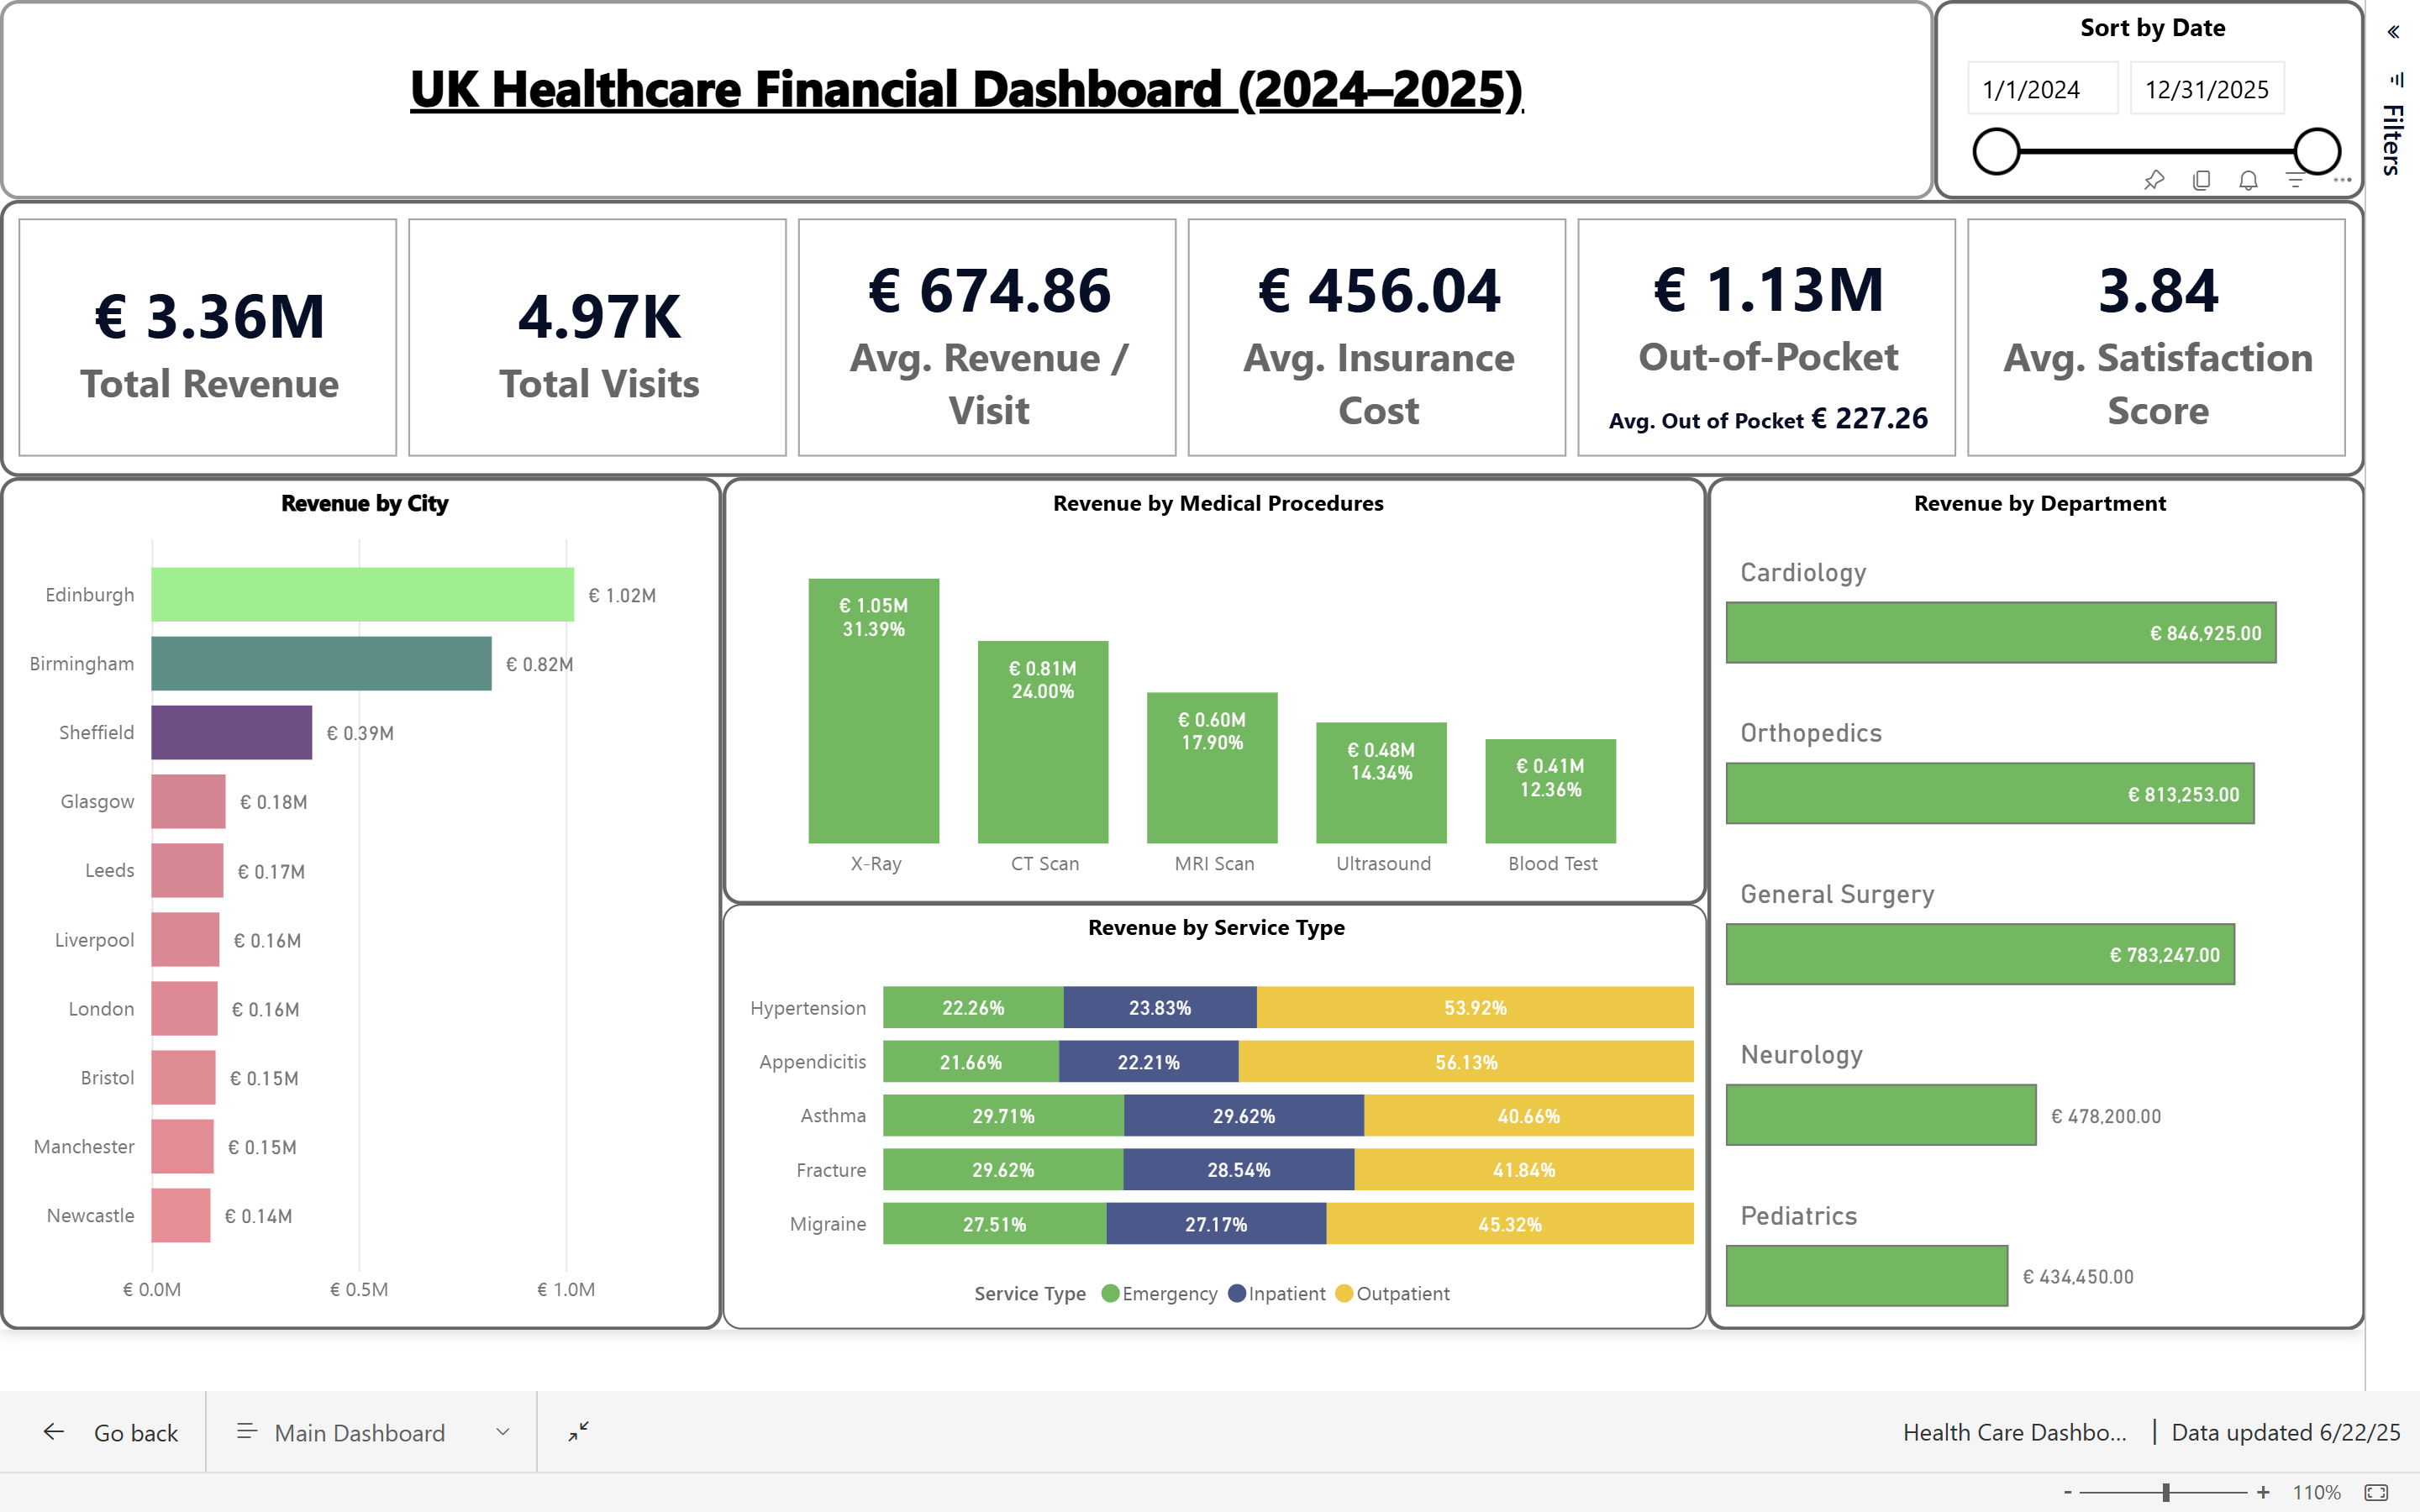

What the dashboard file says about the page in this screenshot:
{"tool":"powerbi","page":{"name":"Main Dashboard","canvas":[1280,720],"ordinal":0},"visuals":[{"type":"cardVisual","fields":{"Data":["DAX Calculations.Total Bill Amount","DAX Calculations.Total Treatment Cost","DAX Calculations.Total Mediacation Cost","DAX Calculations.Total Room Charges","DAX Calculations.Total Patients","DAX Calculations.Avg. Satisfaction Score"]},"box":[0,108.2,1280.4,149.9],"z":0},{"type":"barChart","title":"Revenue by City","fields":{"Category":["Cities.City"],"Y":["DAX Calculations.Total Bill Amount"]},"box":[0,258,391,462],"z":1000},{"type":"columnChart","title":"Revenue by Medical Procedures","fields":{"Category":["Procedure.Procedure"],"Y":["DAX Calculations.Total Bill Amount","DAX Calculations.% Procedure of Bill"]},"box":[391,258,532.9,231.4],"z":2000},{"type":"hundredPercentStackedBarChart","title":"Revenue by Service Type","fields":{"Y":["DAX Calculations.Total Bill Amount"],"Category":["Diagnosis.Diagnosis"],"Series":["visits.Service Type"]},"box":[391,489.5,532.9,230.5],"z":3000},{"type":"clusteredBarChart","title":"Revenue by Department","fields":{"Category":["Department.Department"],"Y":["DAX Calculations.Blank Measure","DAX Calculations.Total Bill Amount"]},"box":[923.9,258,356.5,462],"z":4000},{"type":"slicer","title":"Sort by Date","fields":{"Values":["DateTable.Date"]},"box":[1047.2,0,233.2,108.2],"z":5000},{"type":"textbox","box":[0,0,1047.2,108.2],"z":6000}]}

Visuals, with their boxes in screenshot pixels (x1, y1, x2, y2):
cardVisual - DAX Calculations.Total Bill Amount x DAX Calculations.Total Treatment Cost: rect(0, 196, 2369, 475)
"Revenue by City" barChart: rect(0, 475, 710, 1336)
"Revenue by Medical Procedures" columnChart: rect(710, 475, 1704, 906)
"Revenue by Service Type" hundredPercentStackedBarChart: rect(710, 906, 1704, 1336)
"Revenue by Department" clusteredBarChart: rect(1704, 475, 2369, 1336)
"Sort by Date" slicer: rect(1933, 0, 2369, 196)
textbox: rect(0, 0, 1933, 196)
